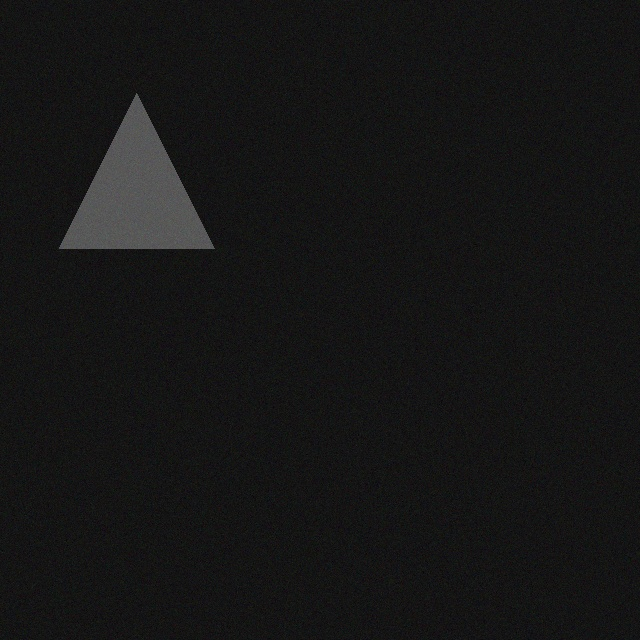triangle: (49, 104, 204, 259)
